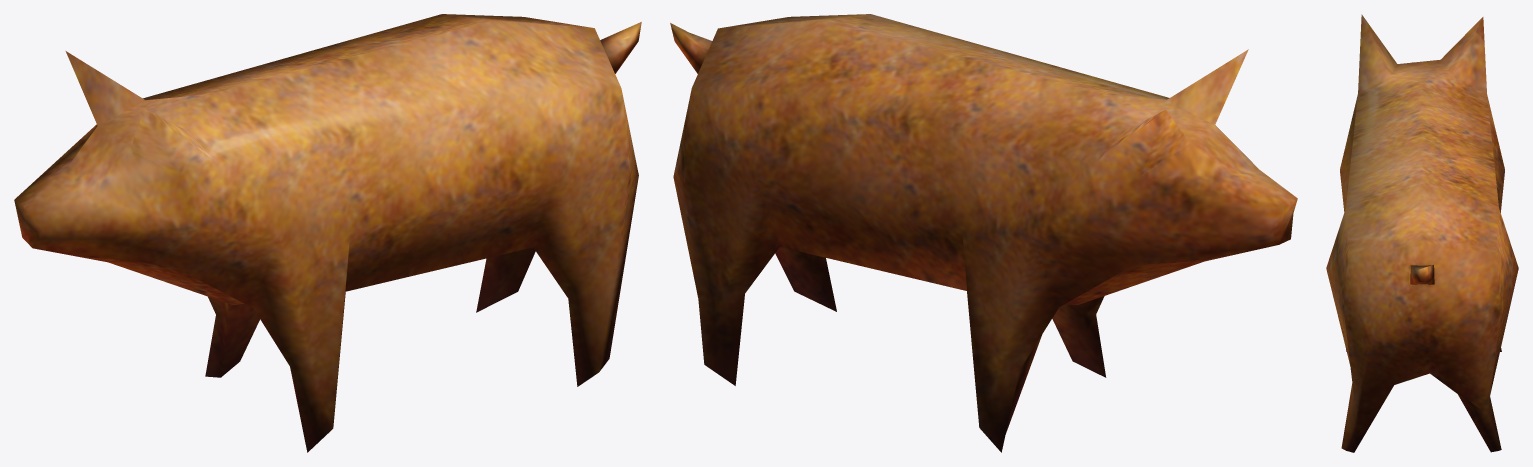
The model's file is pig.fbx.
3 renders of one model, left to right at view 1: azimuth 30°, elevation 25°; view 2: azimuth 150°, elevation 25°; view 3: azimuth 270°, elevation 25°, orthographic. The views are drawn at different scales.
Visible parts, largest first — view 1: Pig.001; view 2: Pig.001; view 3: Pig.001.
Boxes of the visible parts, <box> form: Pig.001: <box>14,14,641,452</box>; Pig.001: <box>670,14,1297,452</box>; Pig.001: <box>1326,14,1518,452</box>.
Size of the model in its own units: 3.77 by 2.17 by 1.34.
